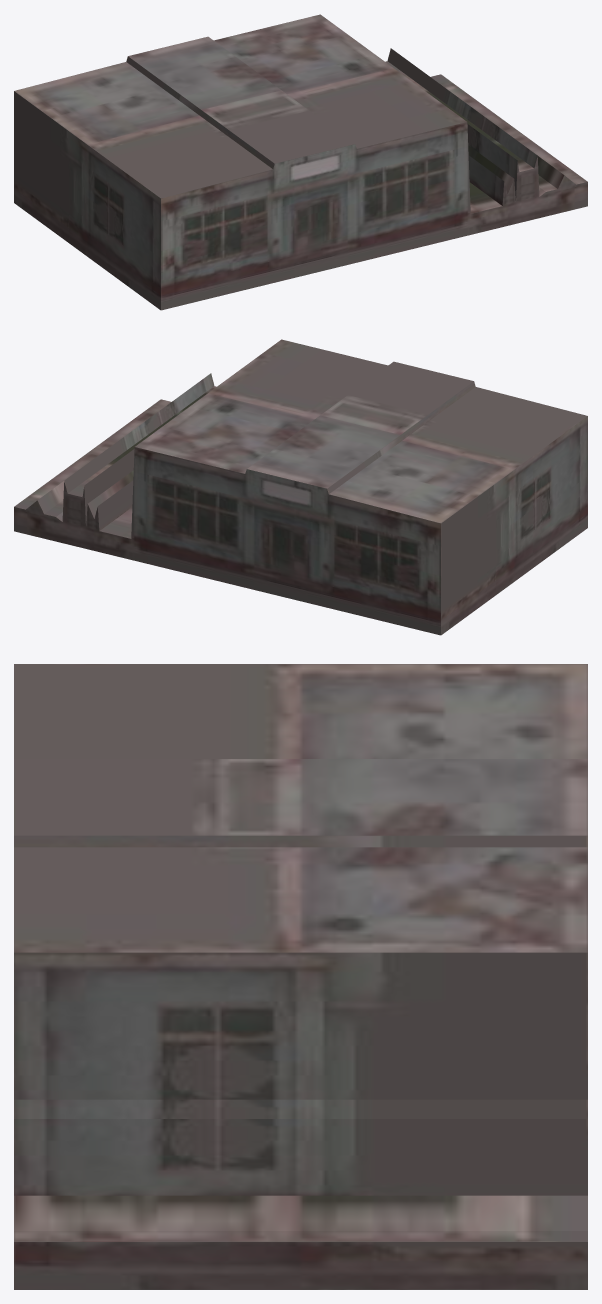
File: bg_industrial_factory_1_lod1.glb
3 renders of one model, top to bottom at view 1: azimuth 30°, elevation 25°; view 2: azimuth 150°, elevation 25°; view 3: azimuth 270°, elevation 25°, orthographic. The views are drawn at different scales.
Parts seen in each view (by area): view 1: body; view 2: body; view 3: body.
Part boxes in pixels (bbox=[...]): body: bbox=[14, 14, 587, 310]; body: bbox=[14, 339, 587, 635]; body: bbox=[14, 664, 587, 1289].
Size of the model in its own units: 11 by 2.93 by 6.55.
Materials: 1 (1 with a texture image).
